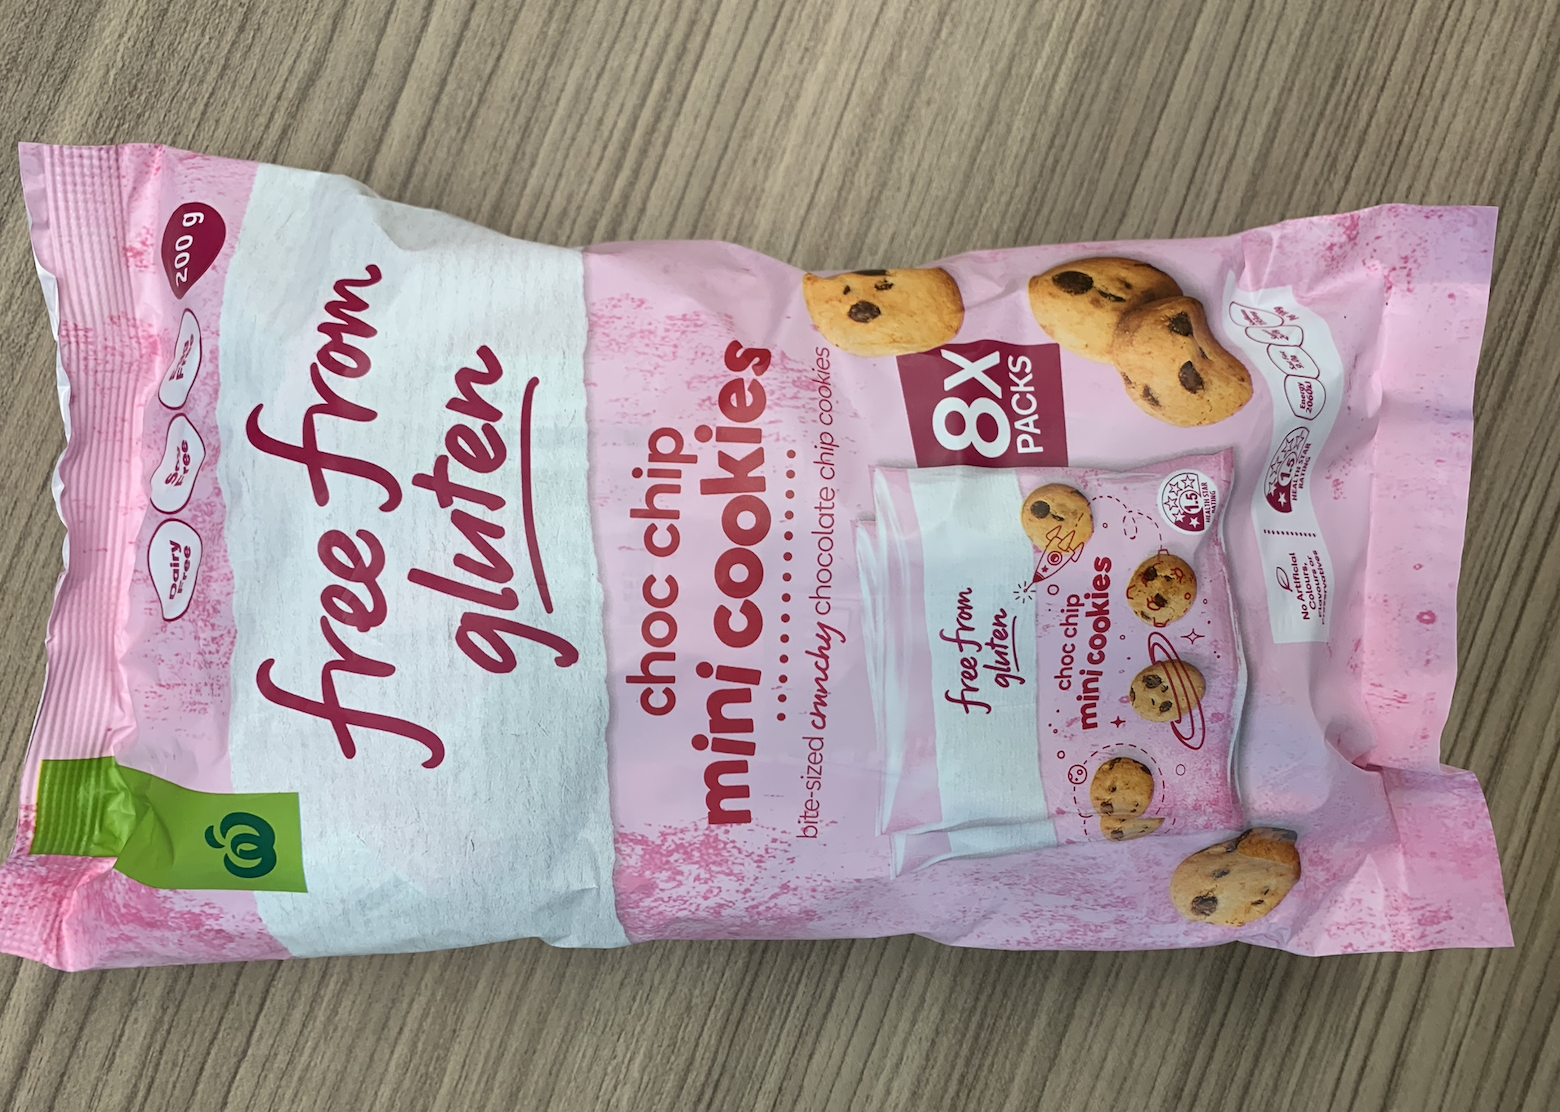cookies_200g-299g: (73, 208, 1428, 923)
